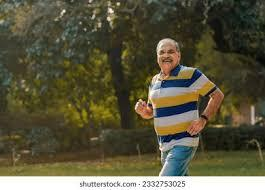Human: (131, 20, 228, 181)
